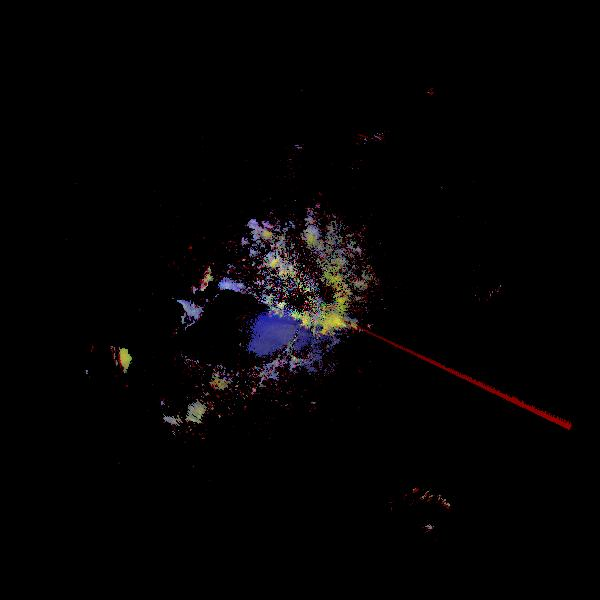roost: (67, 328, 142, 403)
